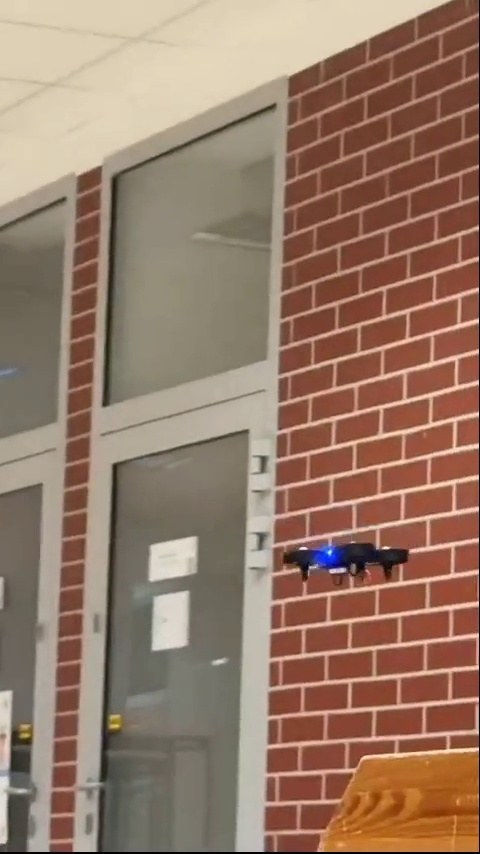drone: (280, 536, 406, 586)
